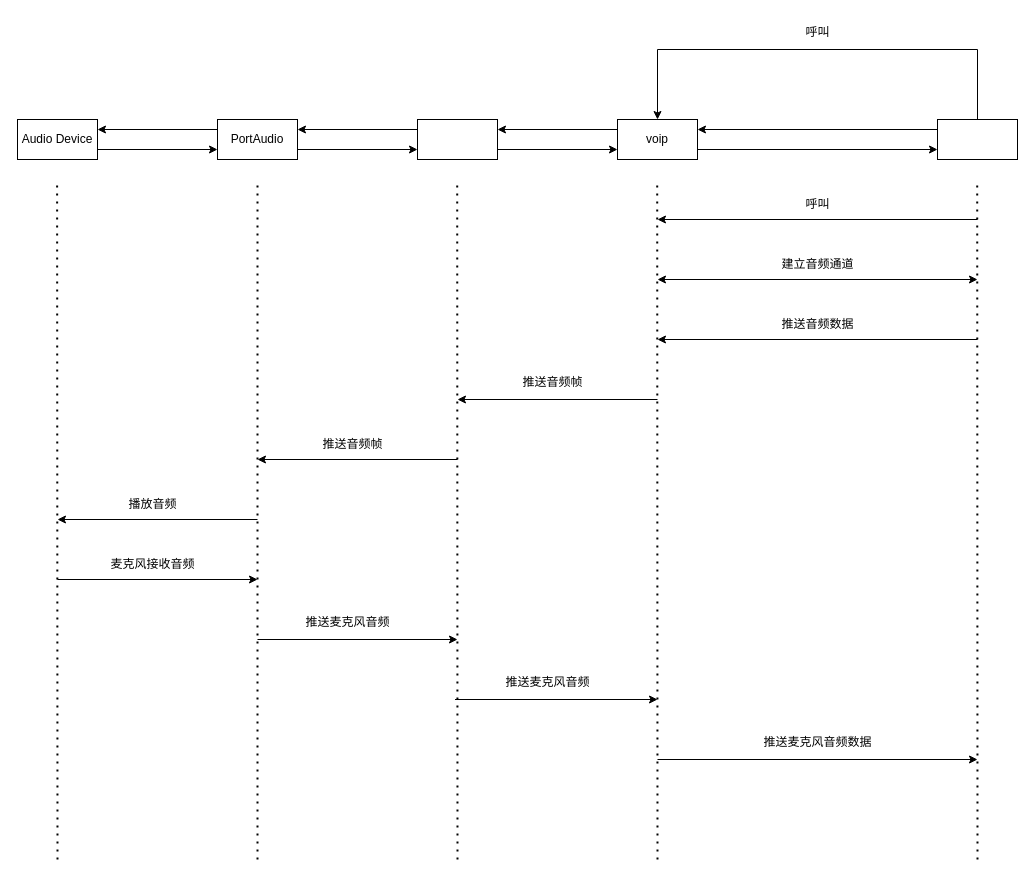
Some shapes in this 1035 by 878 pixel diagram are drawn without their labels. The box of each missing label's shape, as (x1, y1, x2, y2) in pixels:
RTP Server: (416, 118, 498, 160)
手机 client: (936, 118, 1018, 160)
